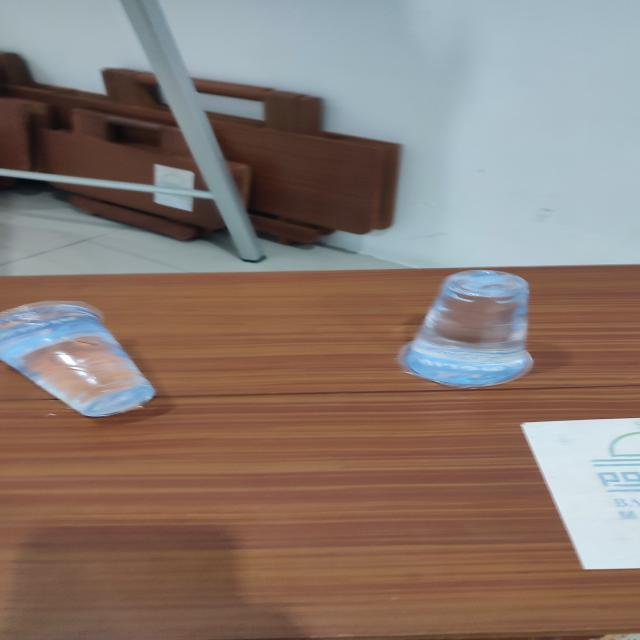air gelas: (1, 292, 157, 420), (409, 269, 544, 389)
